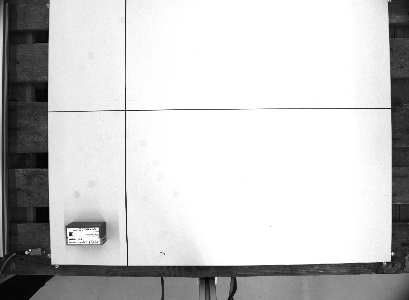b3: (63, 219, 109, 247)
